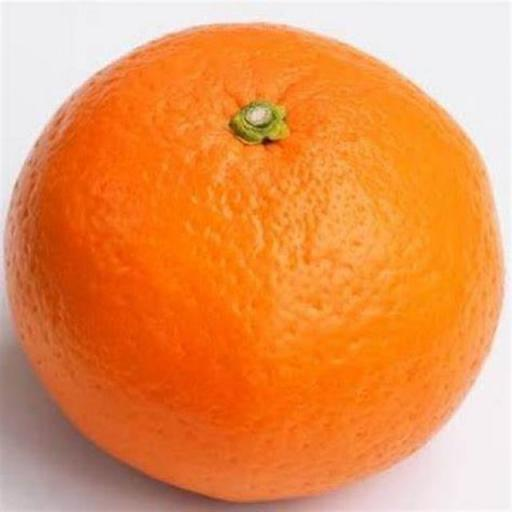fruit: (7, 25, 502, 500)
